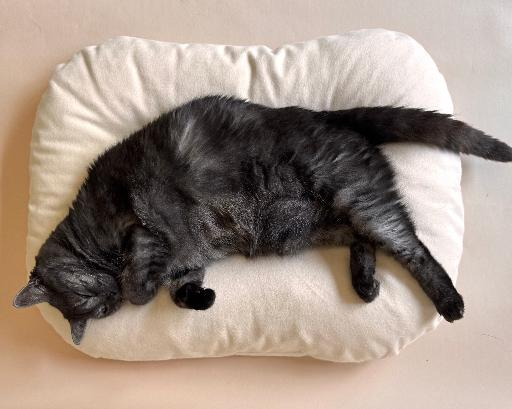cat_sleeping: (14, 96, 512, 345)
